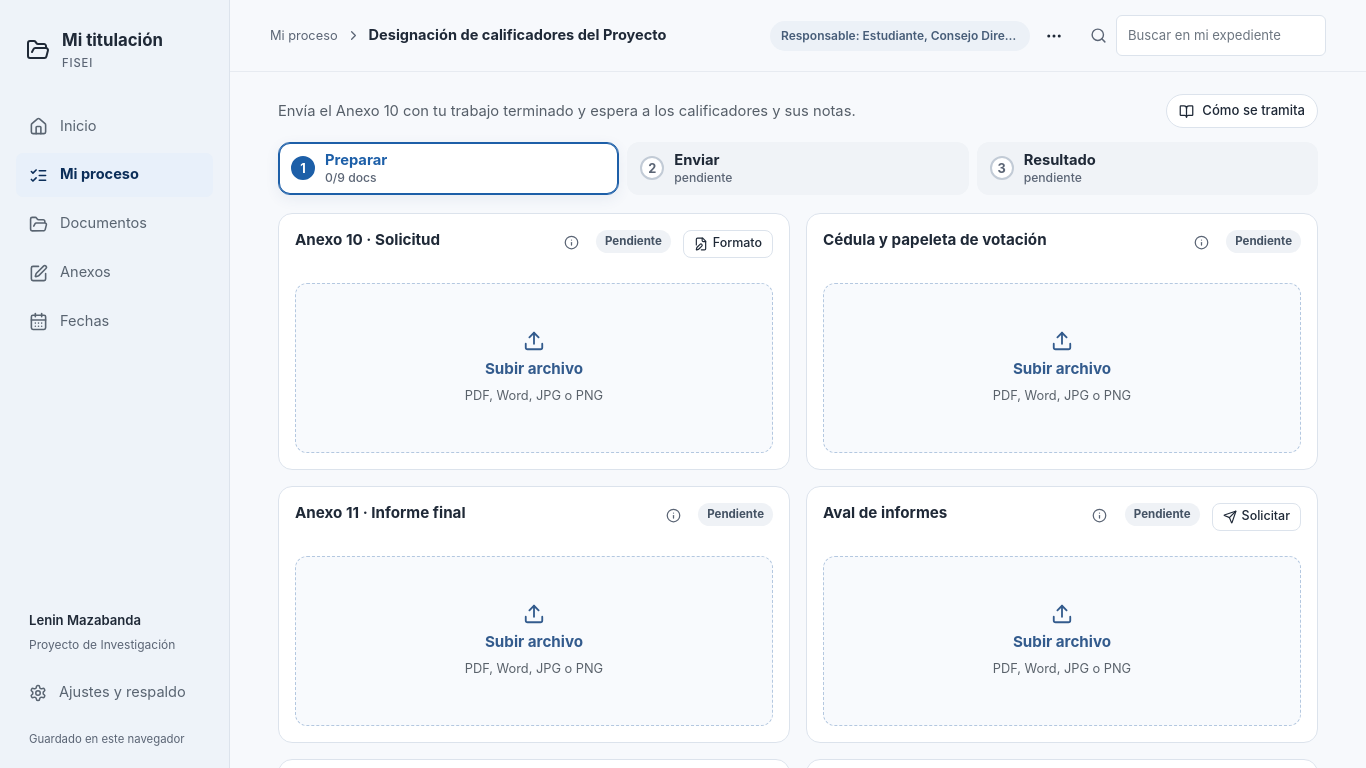
requests the review endorsement with only the email to the graduation unit
The image size is (1366, 768).
Check: the button "Cómo se tramita" is shown, box [1166,94,1318,128]
Click the button "Solicitar".
click(1256, 517)  # box [1212,503,1301,531]
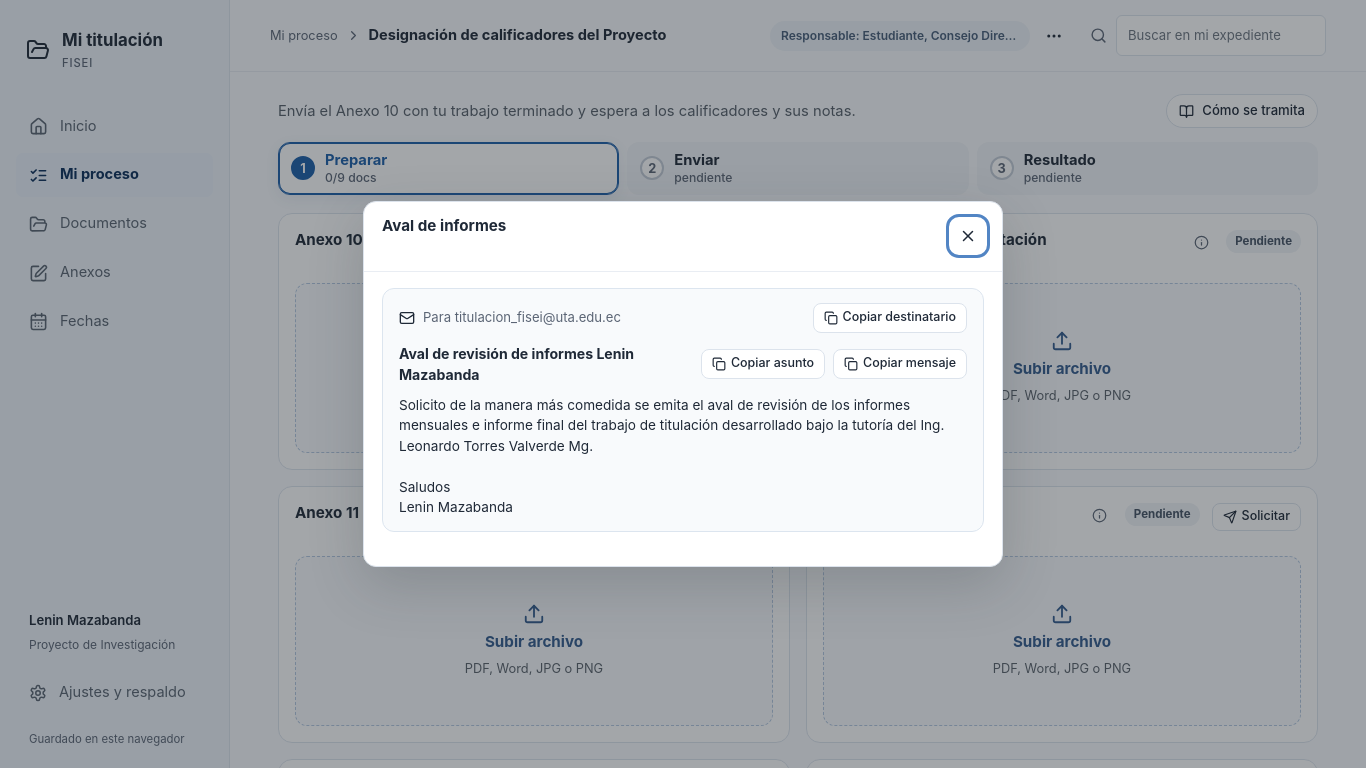
Check: the text "Para titulacion_fisei@uta.edu.ec" is shown, box [423,309,621,325]
Check: the text "Aval de revisión de informes Lenin Mazabanda" is shown, box [399,345,634,383]
Check: the text "bajo la tutoría del Ing. Leonardo Torres Valverde Mg. Saludos" is shown, box [399,397,944,515]
